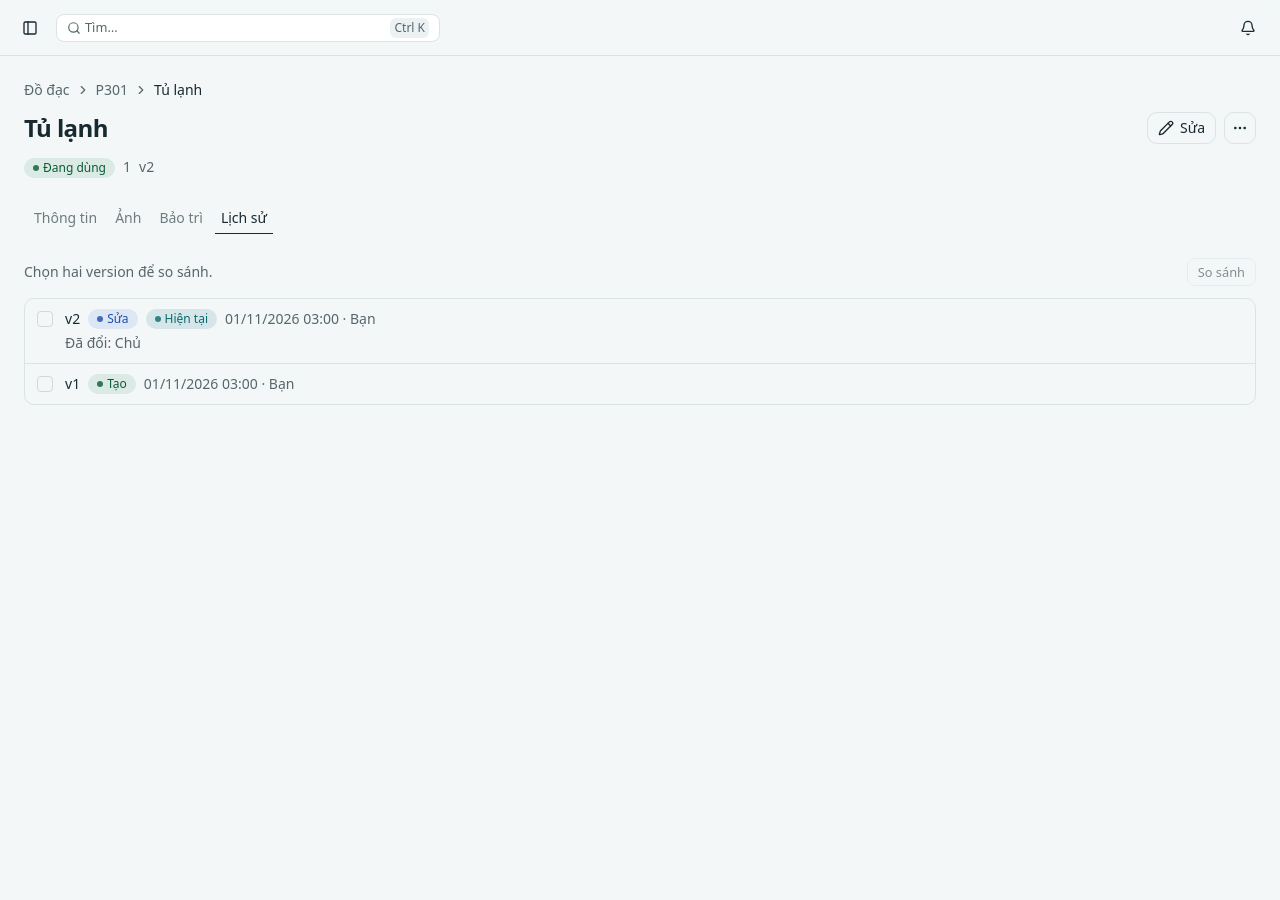
Test case: comparingShowsAnOwnerChange
This screenshot has width=1280, height=900.
Click the checkbox named "Chọn v1 để so sánh" at (45,384), box [37, 376, 53, 392]
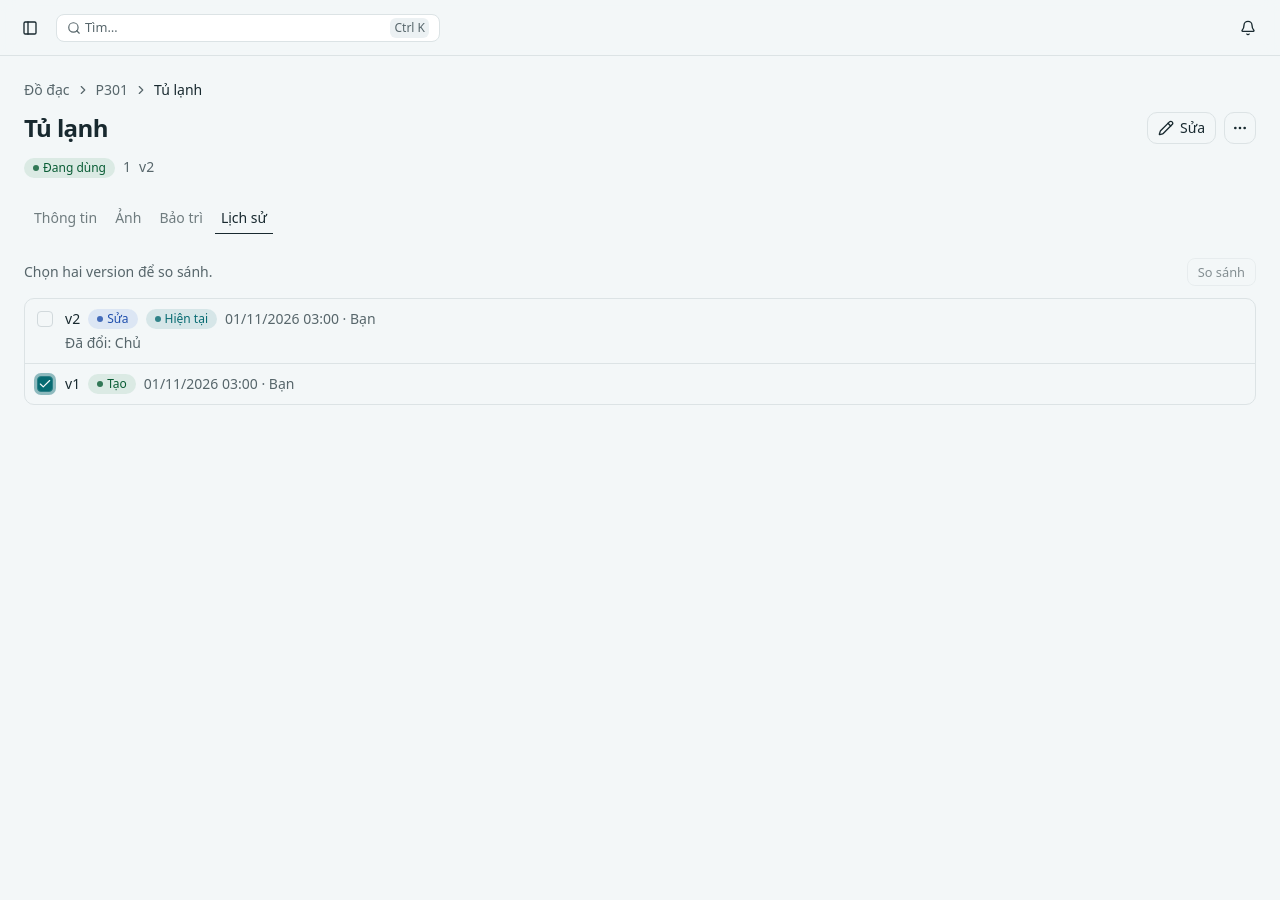
Click the checkbox named "Chọn v2 để so sánh" at (45,319), box [37, 311, 53, 327]
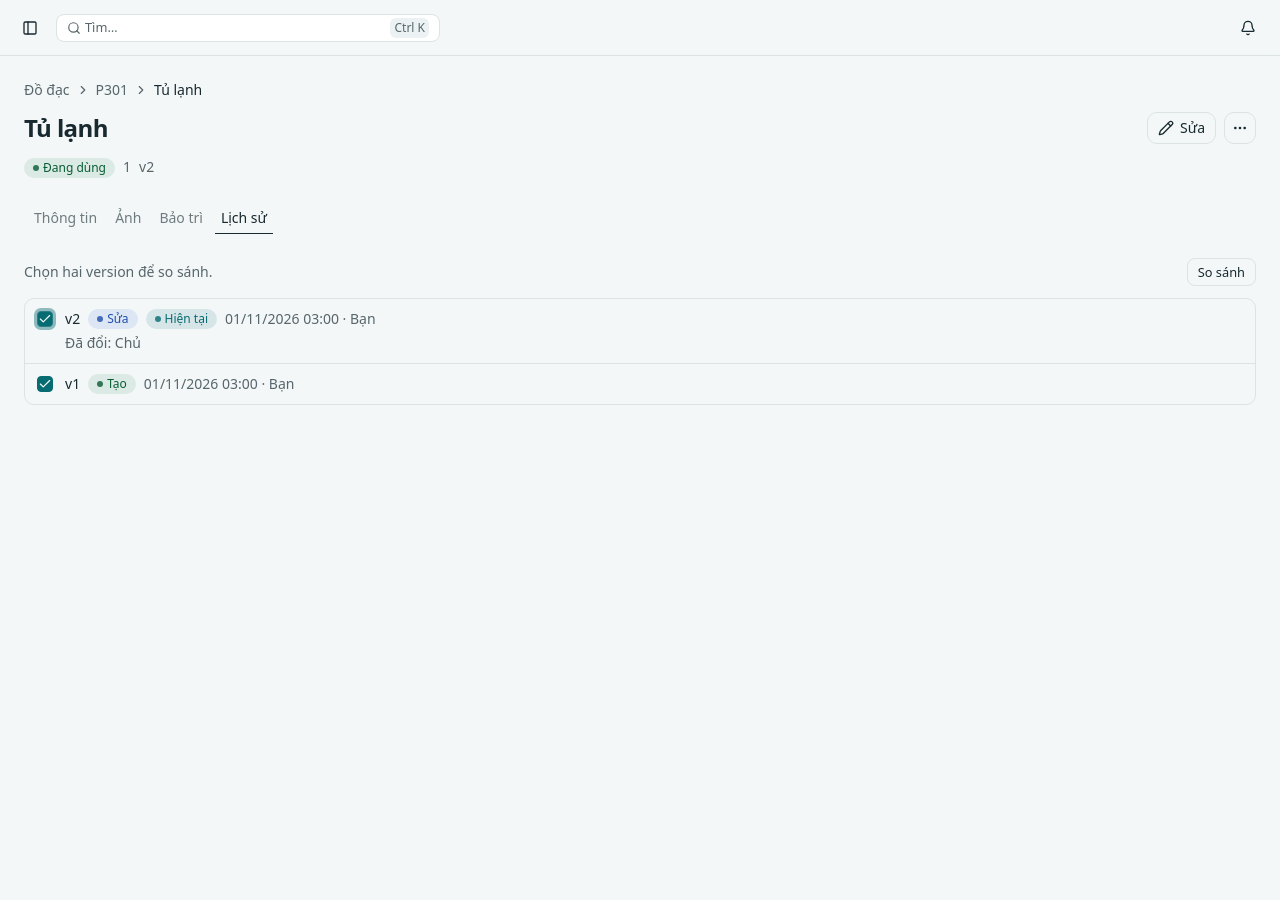
Click the button "So sánh" at (1221,272), box [1187, 258, 1256, 286]
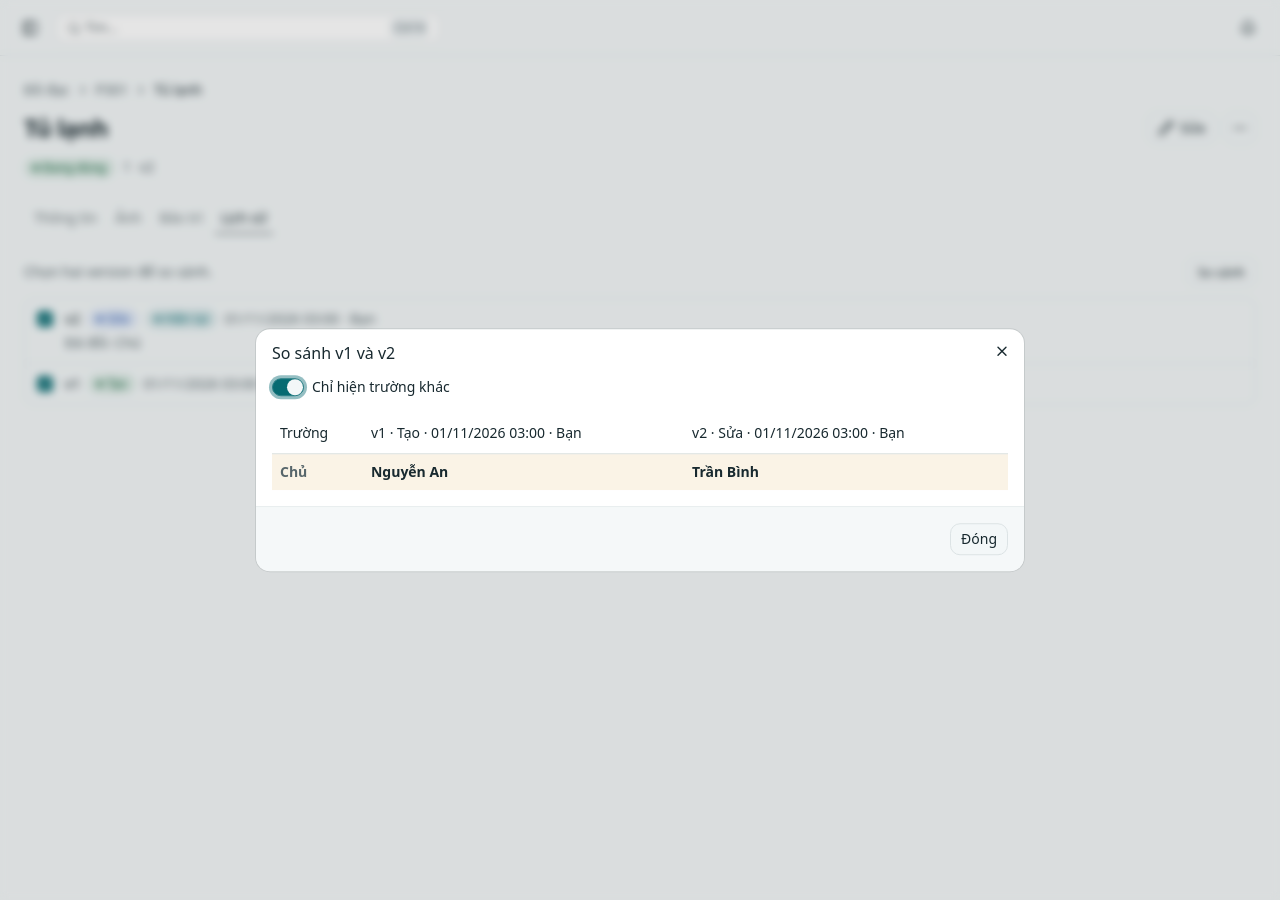
Expected: the text "Trần Bình" is shown, [684, 453, 1008, 490]
